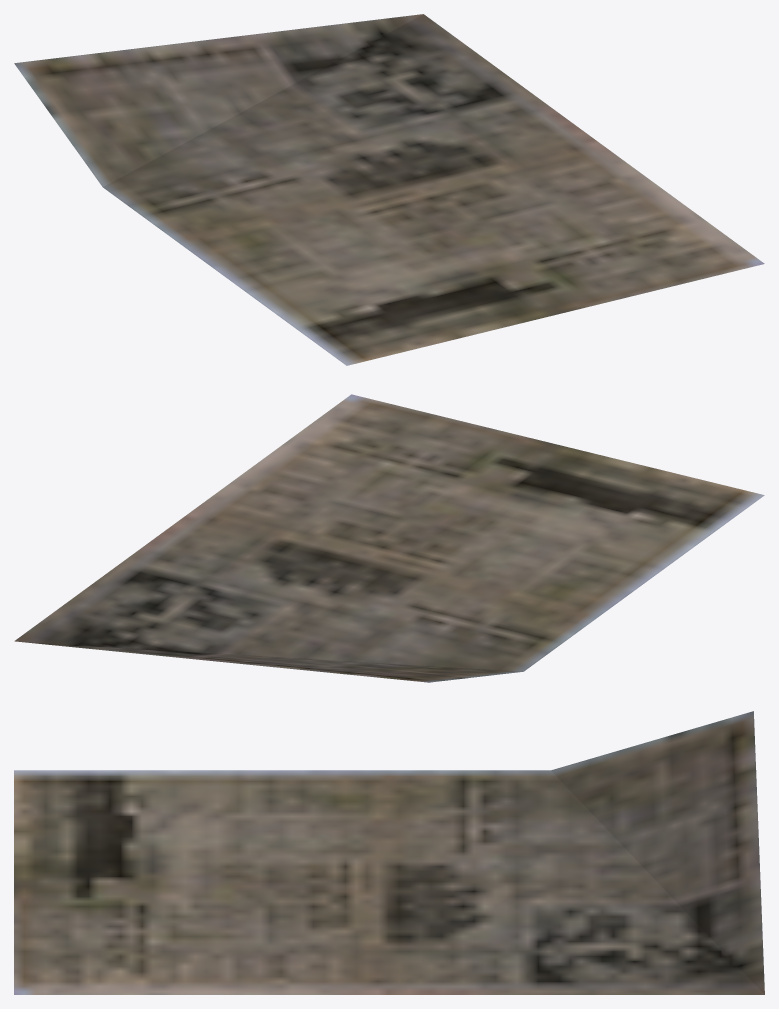
Rendered from M_Home_Garden_paper09.fbx.
3 views of the same model, one above another, from view 1: azimuth 30°, elevation 25°; view 2: azimuth 150°, elevation 25°; view 3: azimuth 270°, elevation 25° (orthographic). The views are drawn at different scales.
Visible parts, largest first — view 1: M_Home_Garden_paper09; view 2: M_Home_Garden_paper09; view 3: M_Home_Garden_paper09.
Boxes of the visible parts, left/top/right/bottom form: M_Home_Garden_paper09: left=14, top=14, right=764, bottom=365; M_Home_Garden_paper09: left=14, top=394, right=764, bottom=682; M_Home_Garden_paper09: left=14, top=711, right=764, bottom=994.
Size of the model in its own units: 30.2 by 3.84 by 42.69.
